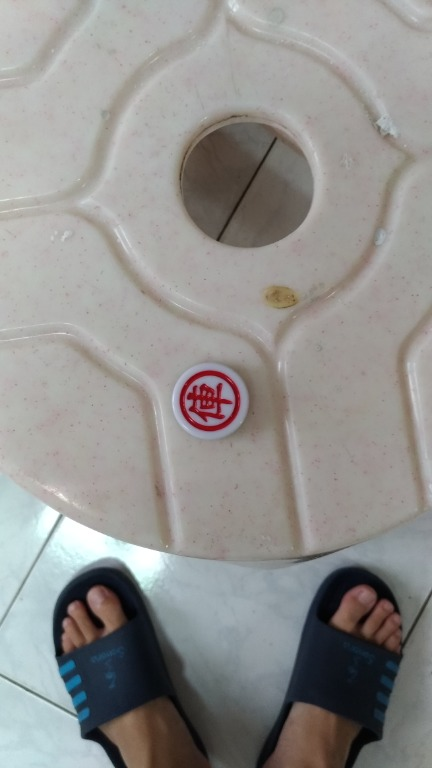r-rook: (155, 359, 271, 456)
